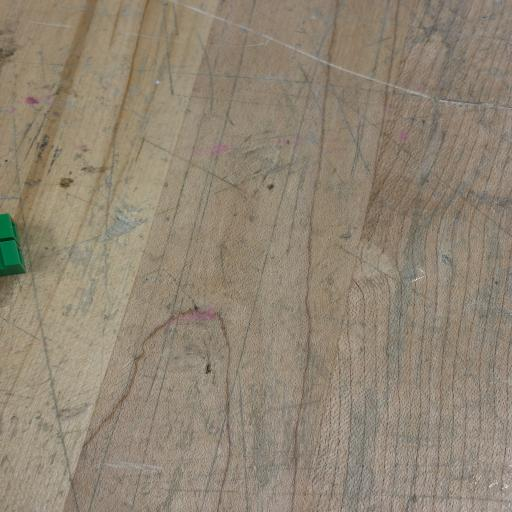Green-Lego: (0, 213, 26, 276)
